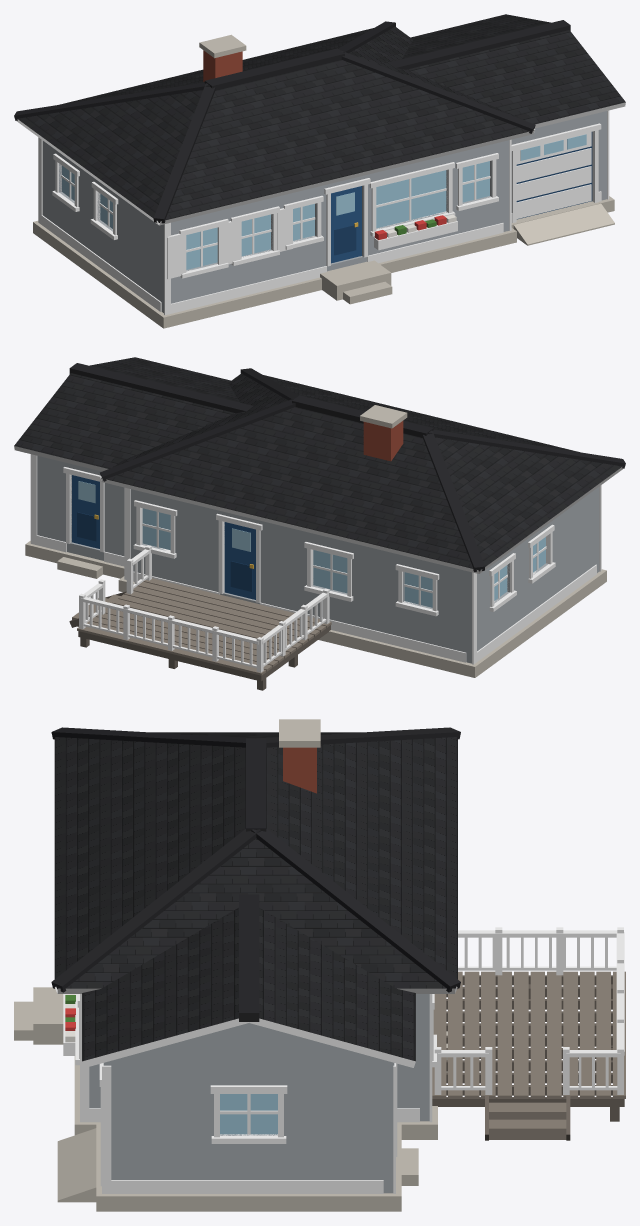
Rendered from base-02-level3.glb.
3 renders of one model, top to bottom at view 1: azimuth 30°, elevation 25°; view 2: azimuth 150°, elevation 25°; view 3: azimuth 270°, elevation 25°, orthographic. The views are drawn at different scales.
Visible parts, largest first — view 1: base_house_2_finished, piece_garage; view 2: base_house_2_finished, piece_garage, piece_deck; view 3: base_house_2_finished, piece_garage, piece_deck.
Part boxes in pixels (x1,y1,x2,y2): base_house_2_finished: [14, 21, 535, 328]; piece_garage: [388, 14, 625, 245]; base_house_2_finished: [100, 368, 625, 677]; piece_garage: [14, 357, 253, 578]; piece_deck: [69, 545, 331, 690]; base_house_2_finished: [14, 719, 460, 1139]; piece_garage: [57, 894, 418, 1211]; piece_deck: [432, 927, 625, 1140].
Bounding box in the file's own units: 15.92 × 6.08 × 12.63.
17 materials, 1 textured.
